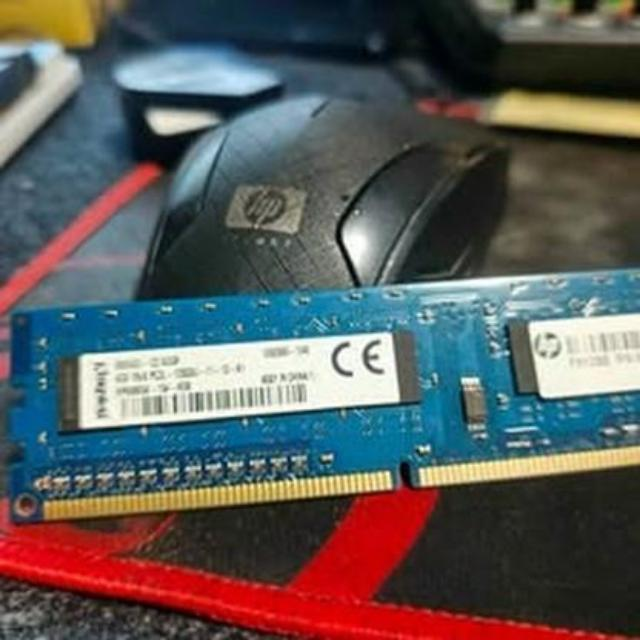RAM: (0, 282, 640, 527)
